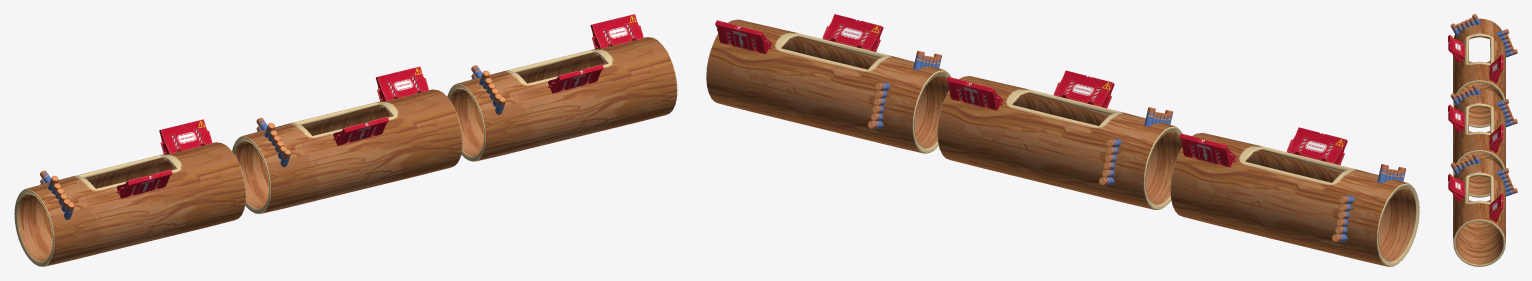
Rendered from wooden roller2 (1).fbx.
The picture shows the model from 3 angles, left to right: view 1: azimuth 30°, elevation 25°; view 2: azimuth 150°, elevation 25°; view 3: azimuth 270°, elevation 25°; orthographic projection. The views are drawn at different scales.
Visible parts, largest first — view 1: polySurface77 (×3), polySurface80 (×3), polySurface51 (×3), polySurface76 (×3); view 2: polySurface77 (×3), polySurface51 (×3), polySurface80 (×3), polySurface1 (×3); view 3: polySurface77 (×3), polySurface51 (×3), polySurface80 (×3), polySurface76 (×3), polySurface1 (×3).
Boxes of the visible parts, box(x1,y1,x2,y2) form: polySurface77 (×3): box(14, 37, 677, 266); polySurface80 (×3): box(159, 14, 643, 153); polySurface51 (×3): box(116, 64, 603, 198); polySurface76 (×3): box(48, 70, 505, 219); polySurface77 (×3): box(706, 19, 1419, 266); polySurface51 (×3): box(822, 14, 1347, 164); polySurface80 (×3): box(715, 20, 1236, 167); polySurface1 (×3): box(867, 83, 1354, 241); polySurface77 (×3): box(1453, 18, 1505, 266); polySurface51 (×3): box(1448, 35, 1464, 201); polySurface80 (×3): box(1489, 54, 1503, 222); polySurface76 (×3): box(1450, 14, 1481, 175); polySurface1 (×3): box(1496, 29, 1517, 196).
Size of the model in its own units: 13.96 by 1.89 by 2.05.
1 material, 1 textured.
